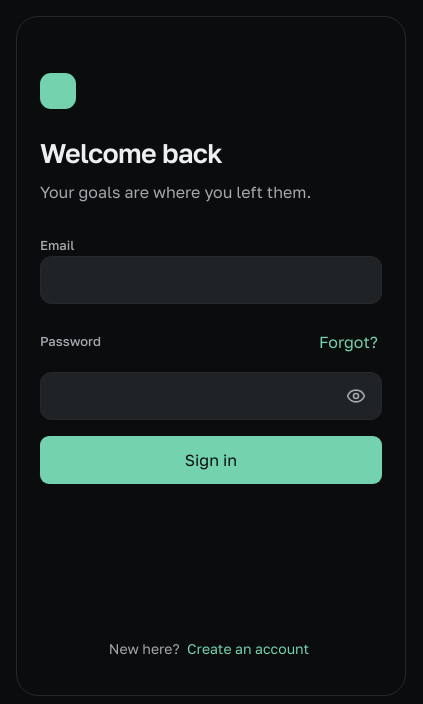
Test: M1 web identity flows › retains credentials after a recoverable sign-in error
The image size is (423, 704).
In the field labelled "Email": (211, 280) x1=40 y1=256 x2=382 y2=304, type "alex@example.com"
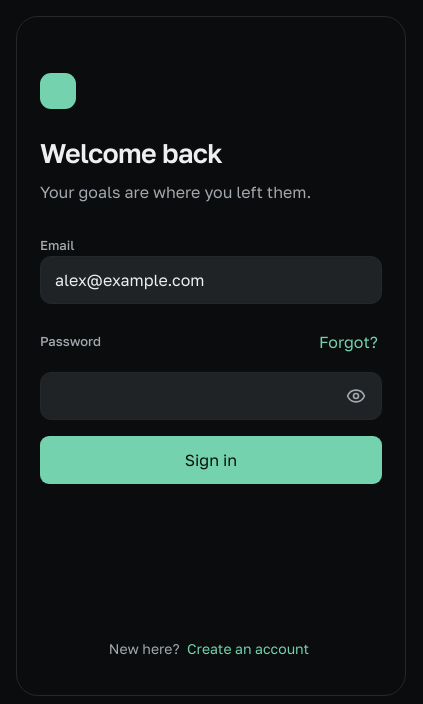
In the password field labelled "Password": (211, 396) x1=40 y1=372 x2=382 y2=420, type "not-it"
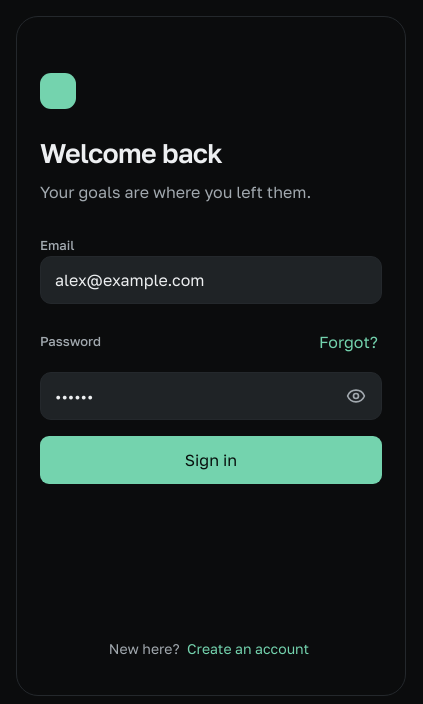
Click the button "Sign in": (211, 460) x1=40 y1=436 x2=382 y2=484
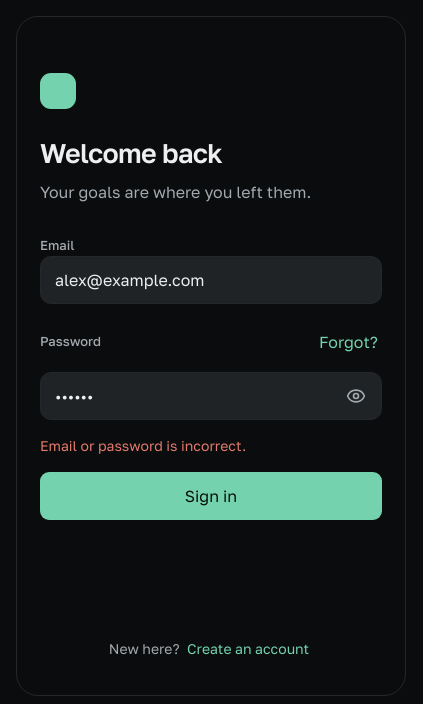
Now the message reads "Email or password is incorrect.", box x1=40 y1=436 x2=246 y2=454
